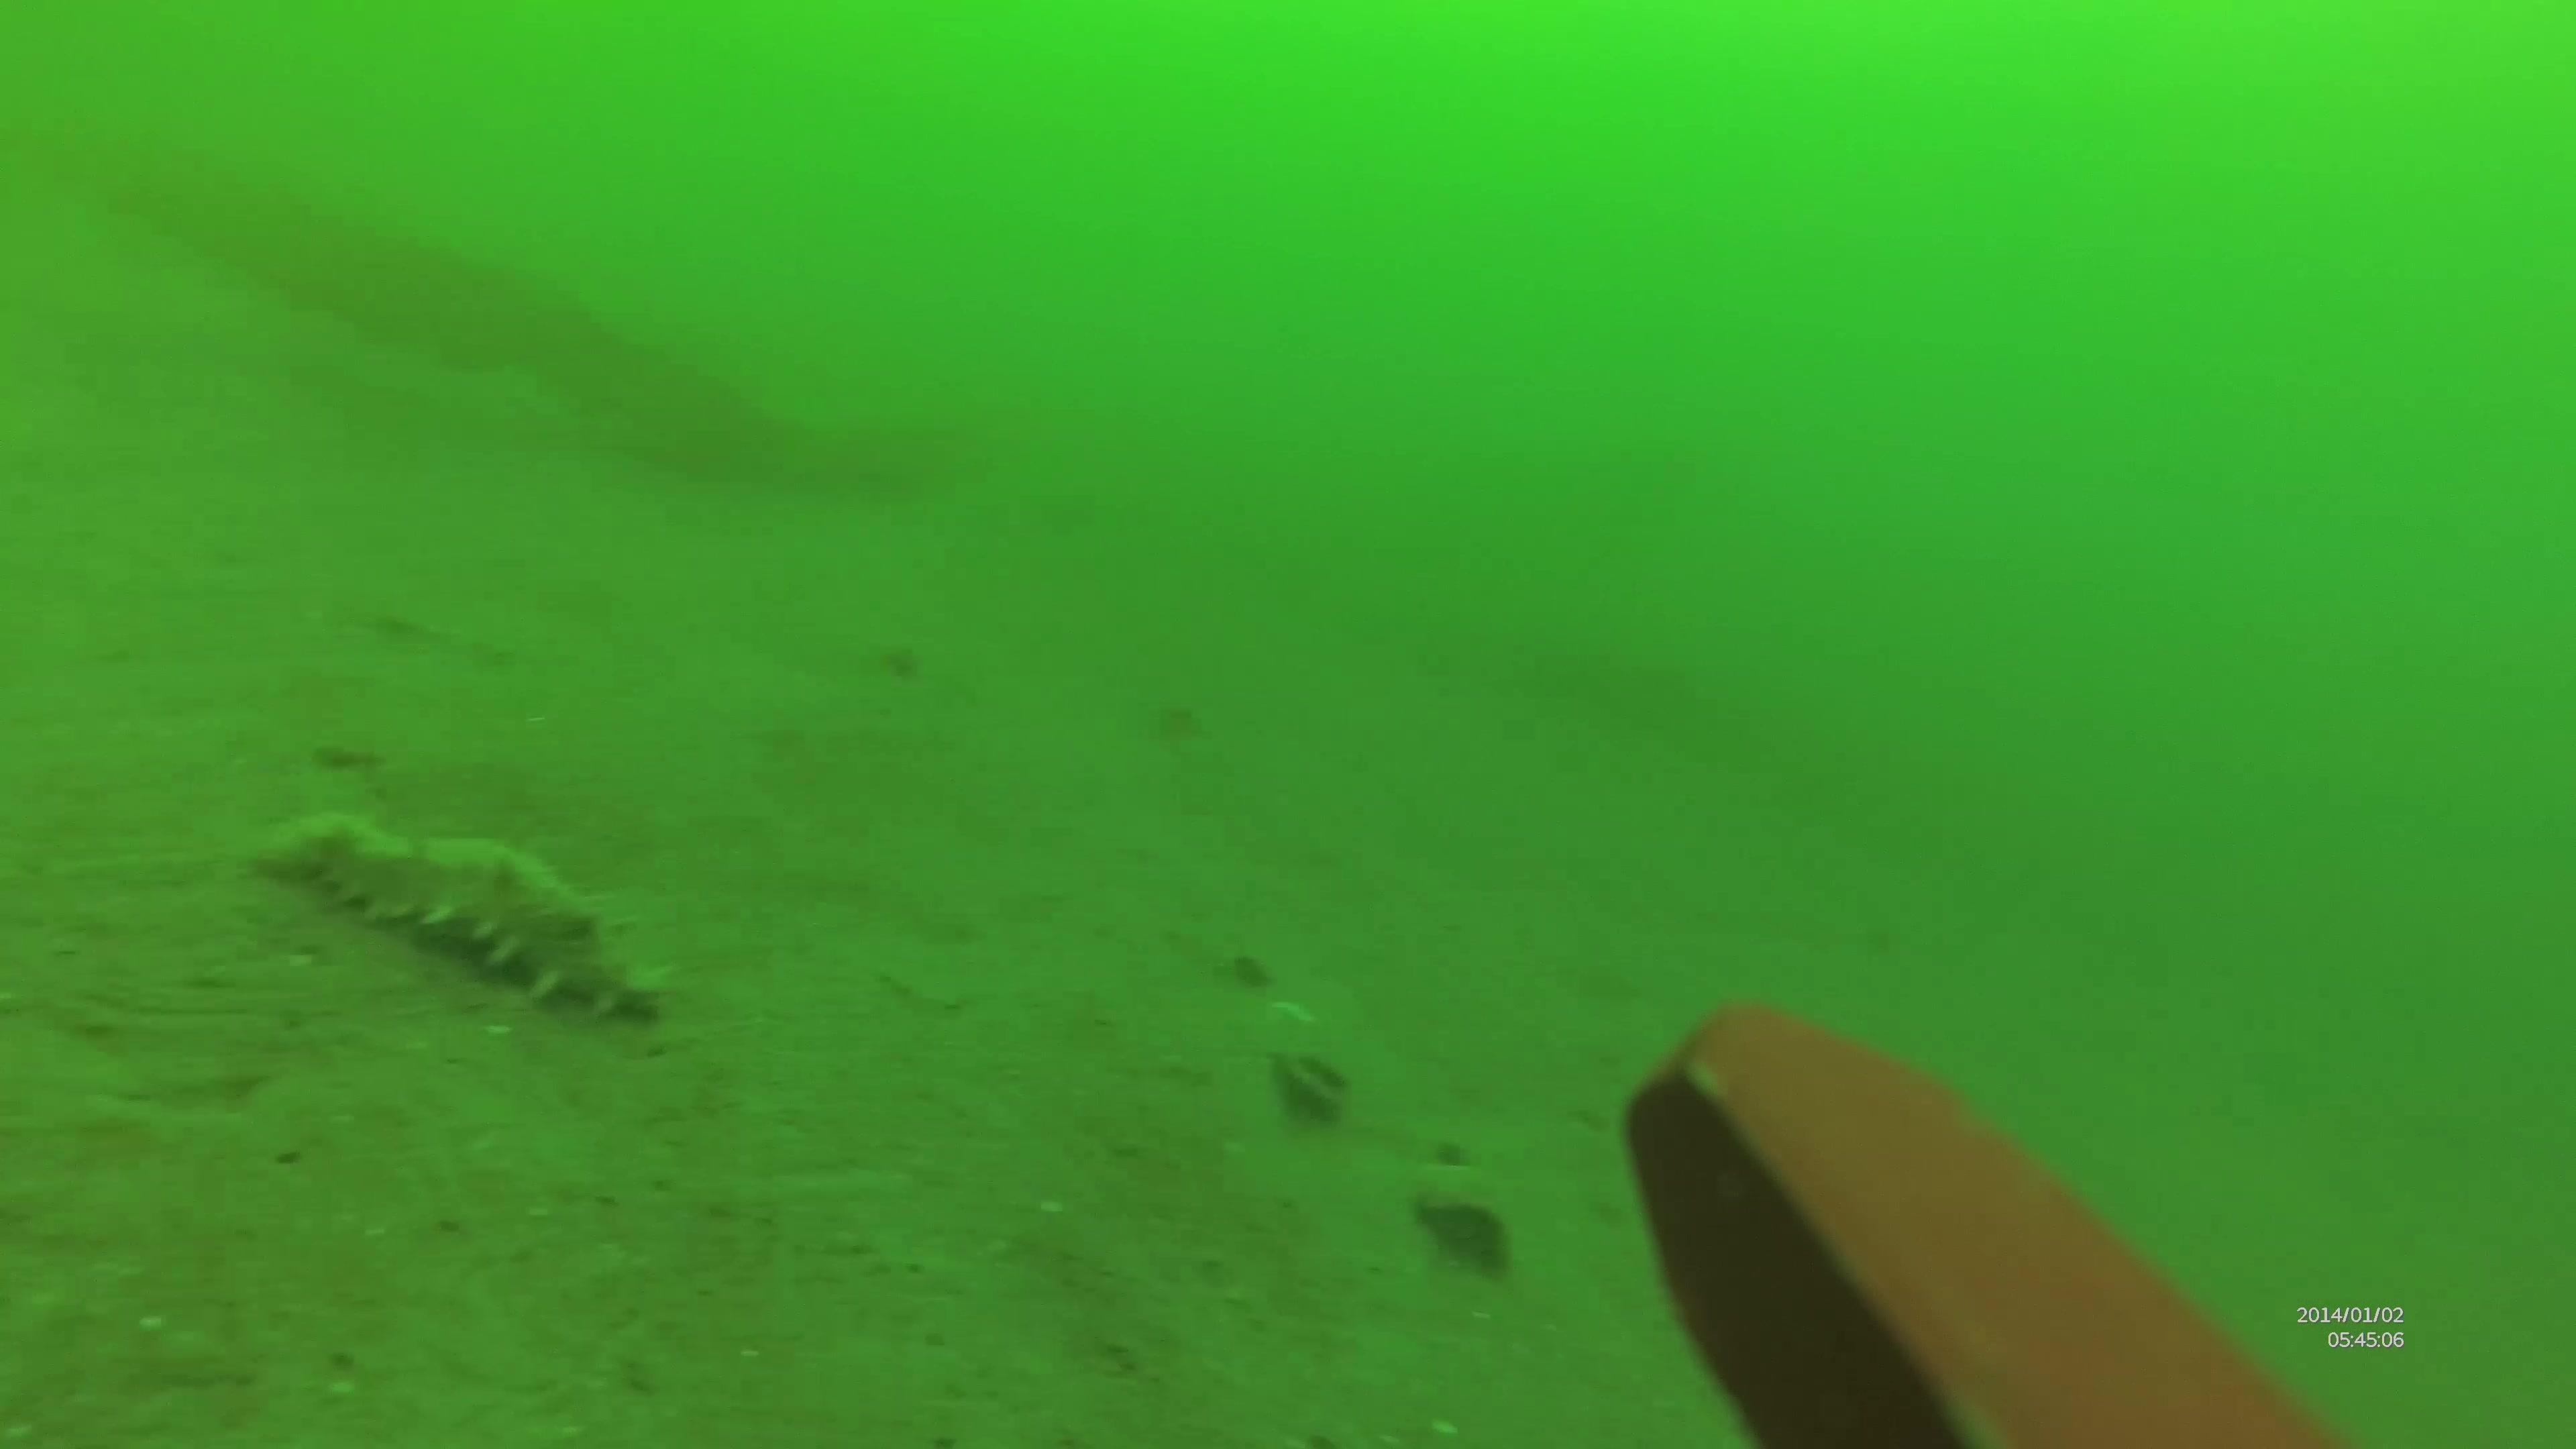holothurian: (258, 817, 658, 1012)
